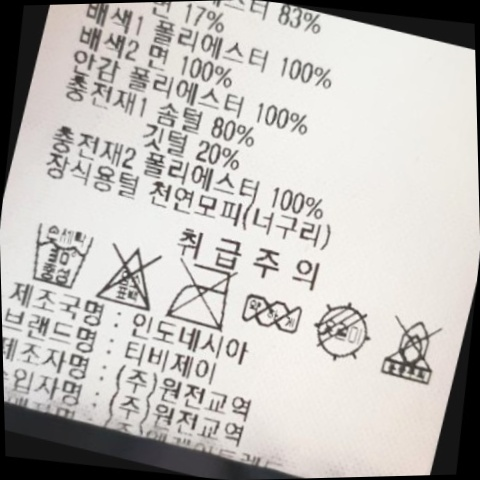DN_iron: (159, 255, 242, 338)
hand_wash: (22, 215, 104, 299)
line_dry_in_shade: (307, 294, 383, 371)
non_chlorine_bleach: (92, 229, 175, 318)
wring: (237, 285, 313, 342)
